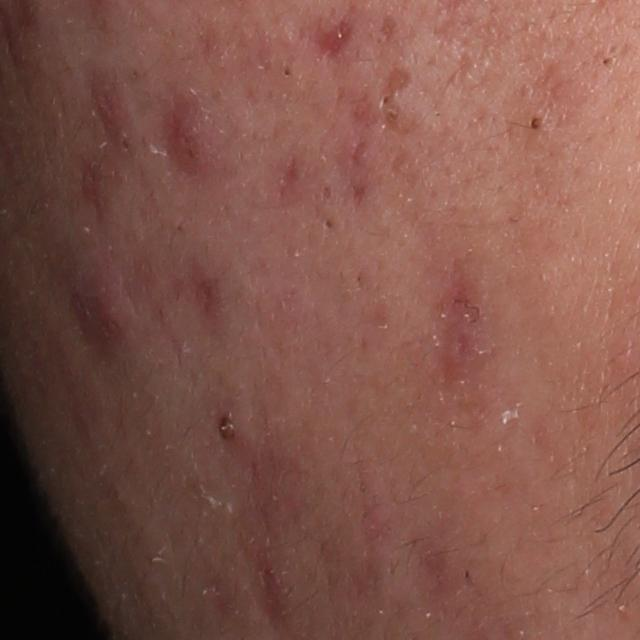atrophic_scar: (248, 558, 288, 639), (78, 156, 108, 229), (316, 18, 356, 60), (279, 153, 303, 198), (372, 11, 400, 42), (389, 66, 414, 94), (347, 141, 370, 169), (347, 185, 365, 206)
comedo: (211, 414, 244, 446), (521, 114, 547, 133), (114, 134, 136, 155), (274, 64, 297, 84), (599, 55, 618, 71), (380, 109, 401, 123), (374, 93, 393, 108), (322, 214, 334, 229)
papule: (73, 276, 130, 355), (167, 115, 217, 174)
